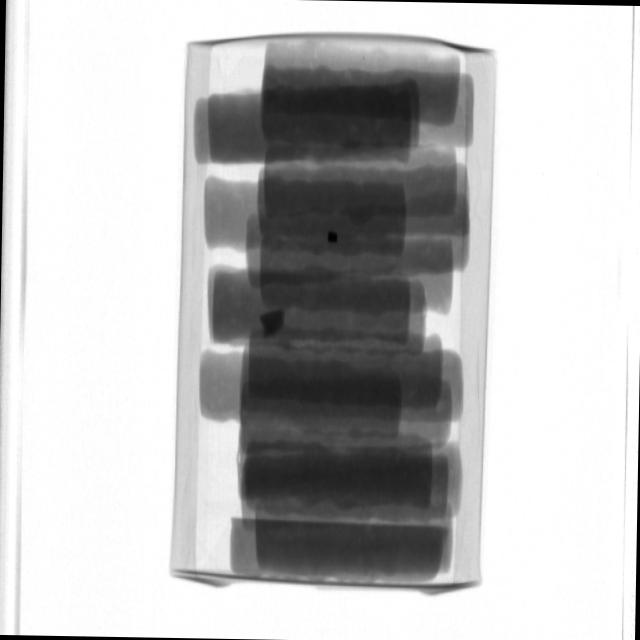ym: (261, 309, 287, 339), (328, 232, 338, 244)
